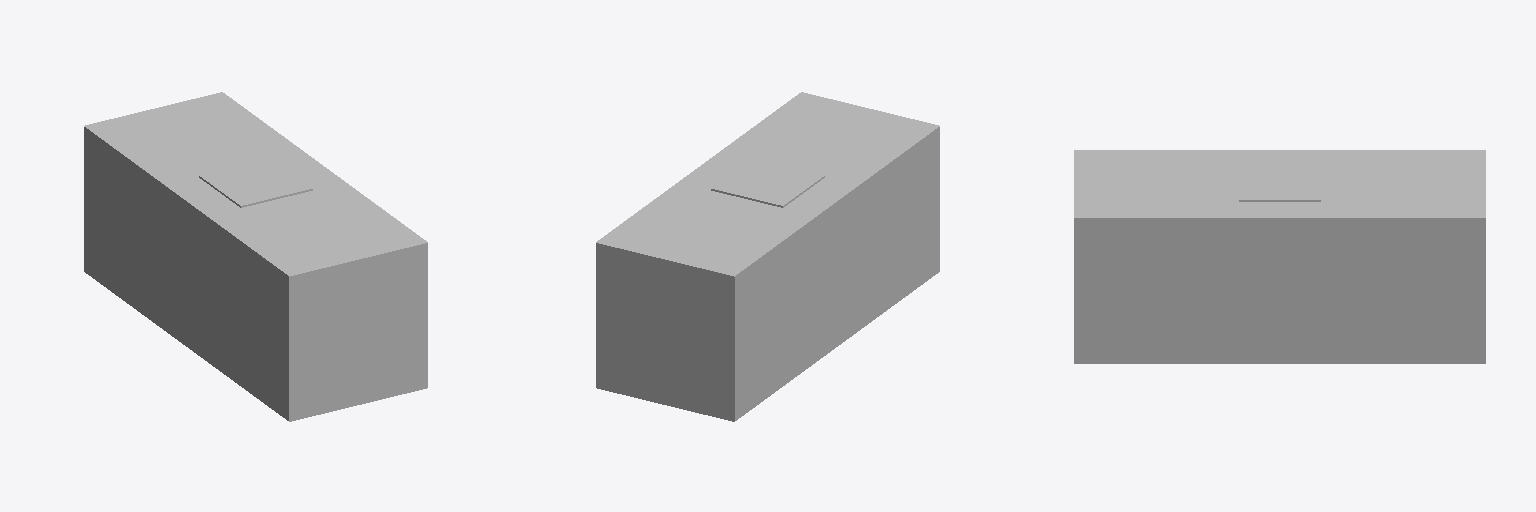
The picture shows the model from 3 angles: view 1: azimuth 30°, elevation 25°; view 2: azimuth 150°, elevation 25°; view 3: azimuth 270°, elevation 25°; orthographic projection.
Parts seen in each view (by area): view 1: Cube.005, Cube; view 2: Cube.005, Cube; view 3: Cube.005, Cube.
Part boxes in pixels (bbox=[...]): Cube.005: bbox=[84, 92, 427, 421]; Cube: bbox=[199, 159, 312, 207]; Cube.005: bbox=[596, 92, 939, 421]; Cube: bbox=[711, 159, 824, 207]; Cube.005: bbox=[1074, 150, 1485, 363]; Cube: bbox=[1239, 165, 1320, 201].
Size of the model in its own units: 7.22 by 7.32 by 18.51.